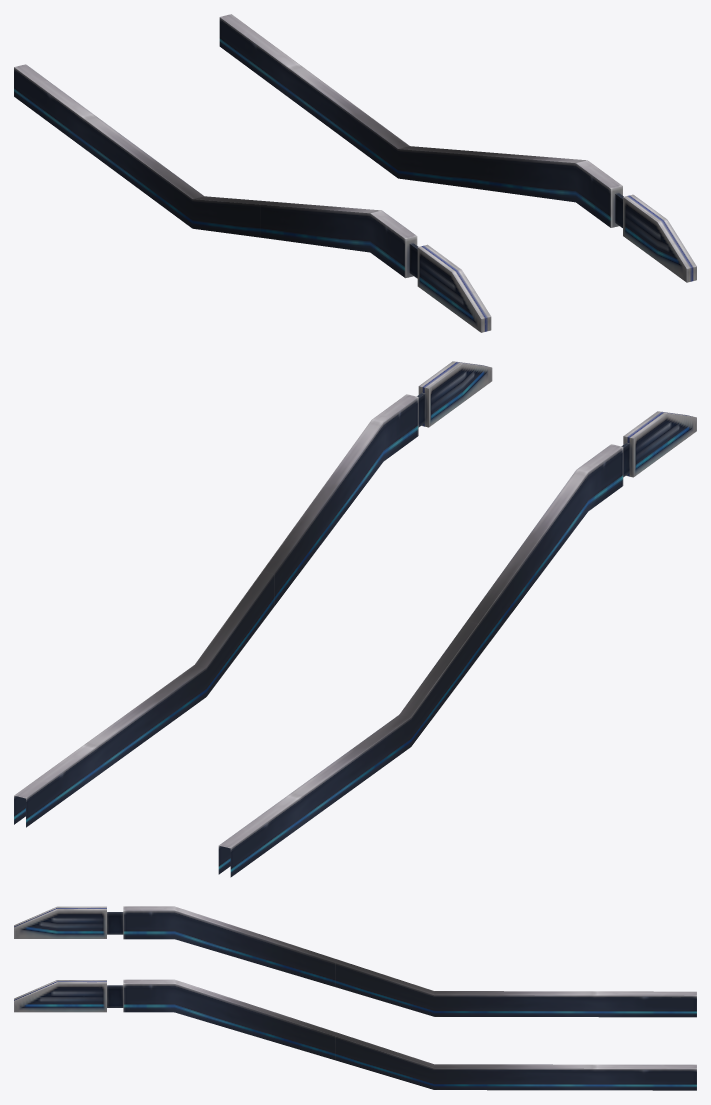
3 renders of one model, top to bottom at view 1: azimuth 30°, elevation 25°; view 2: azimuth 150°, elevation 25°; view 3: azimuth 270°, elevation 25°, orthographic. The views are drawn at different scales.
Parts seen in each view (by area): view 1: gk_jz011_02; view 2: gk_jz011_02; view 3: gk_jz011_02.
Part boxes in pixels (x1,y1,x2,y2): gk_jz011_02: (14, 14, 696, 332); gk_jz011_02: (14, 361, 696, 877); gk_jz011_02: (14, 906, 696, 1090).
Size of the model in its own units: 418 by 265 by 1547.
